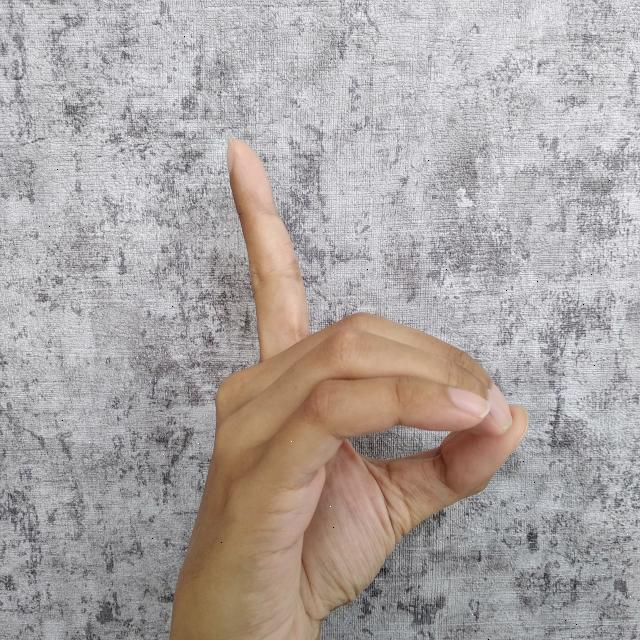D: (170, 136, 530, 640)
